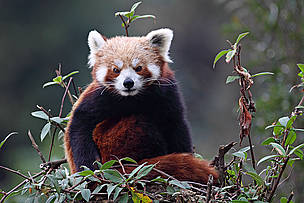red_panda: (58, 28, 232, 180)
